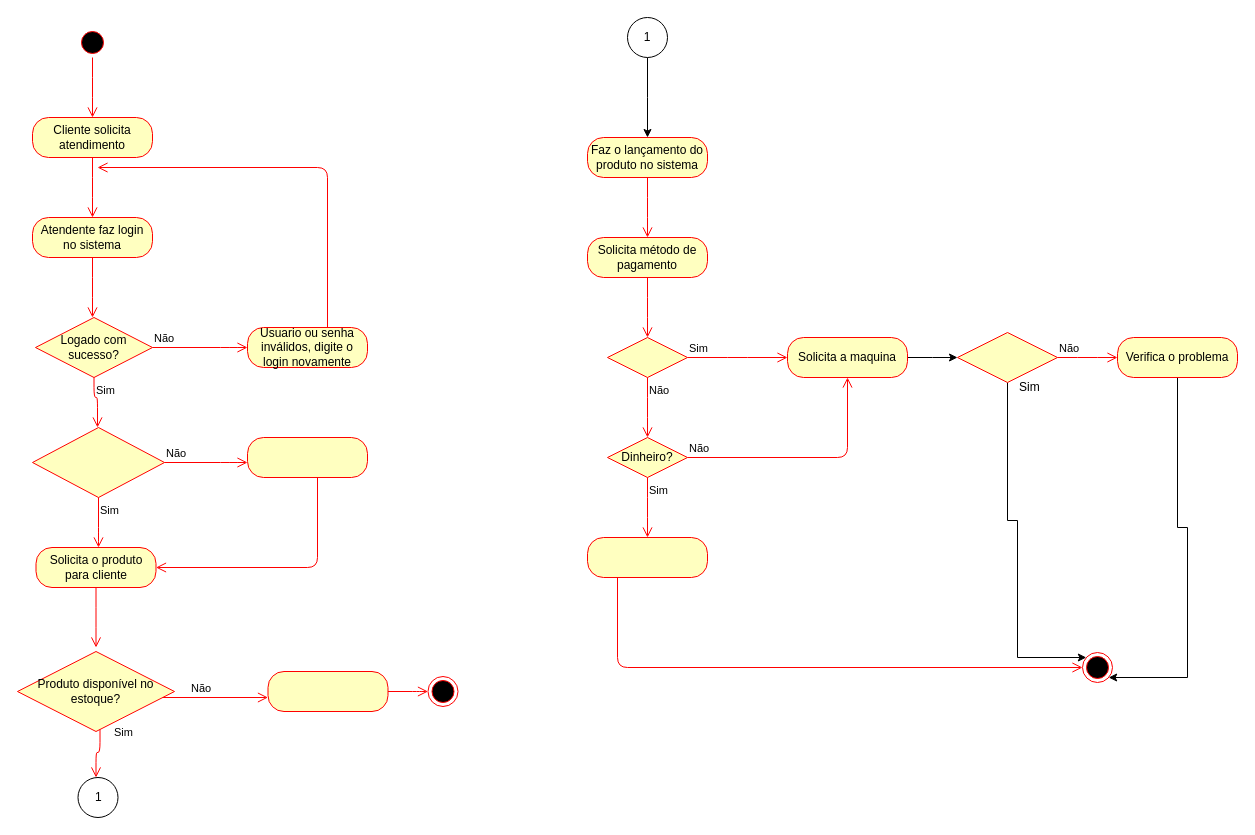
This 1255x835 diagram has some shape labels left out. The centre of each missing label's shape, as x and y in pixels:
Cartão ?: point 647,357
Cartão passou?: point 1007,357
Confere Troco: point 647,557
Solicita os dados do Cliente: point 307,457
Solicitar mercadoria ao fabricante: point 327,691
Verifica se Cliente possui Cadastro: point 98,462
